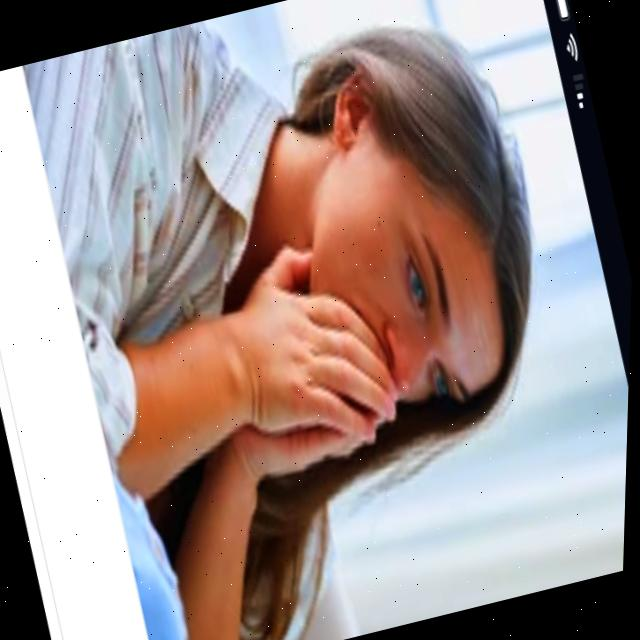natural: (262, 133, 510, 446)
